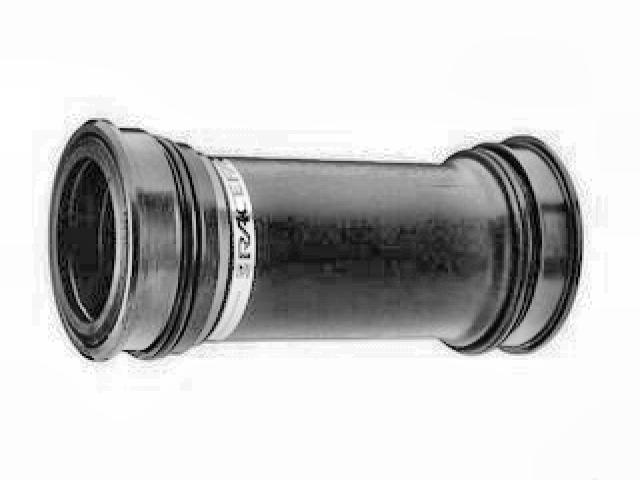bottom_bracket: (44, 110, 588, 371)
